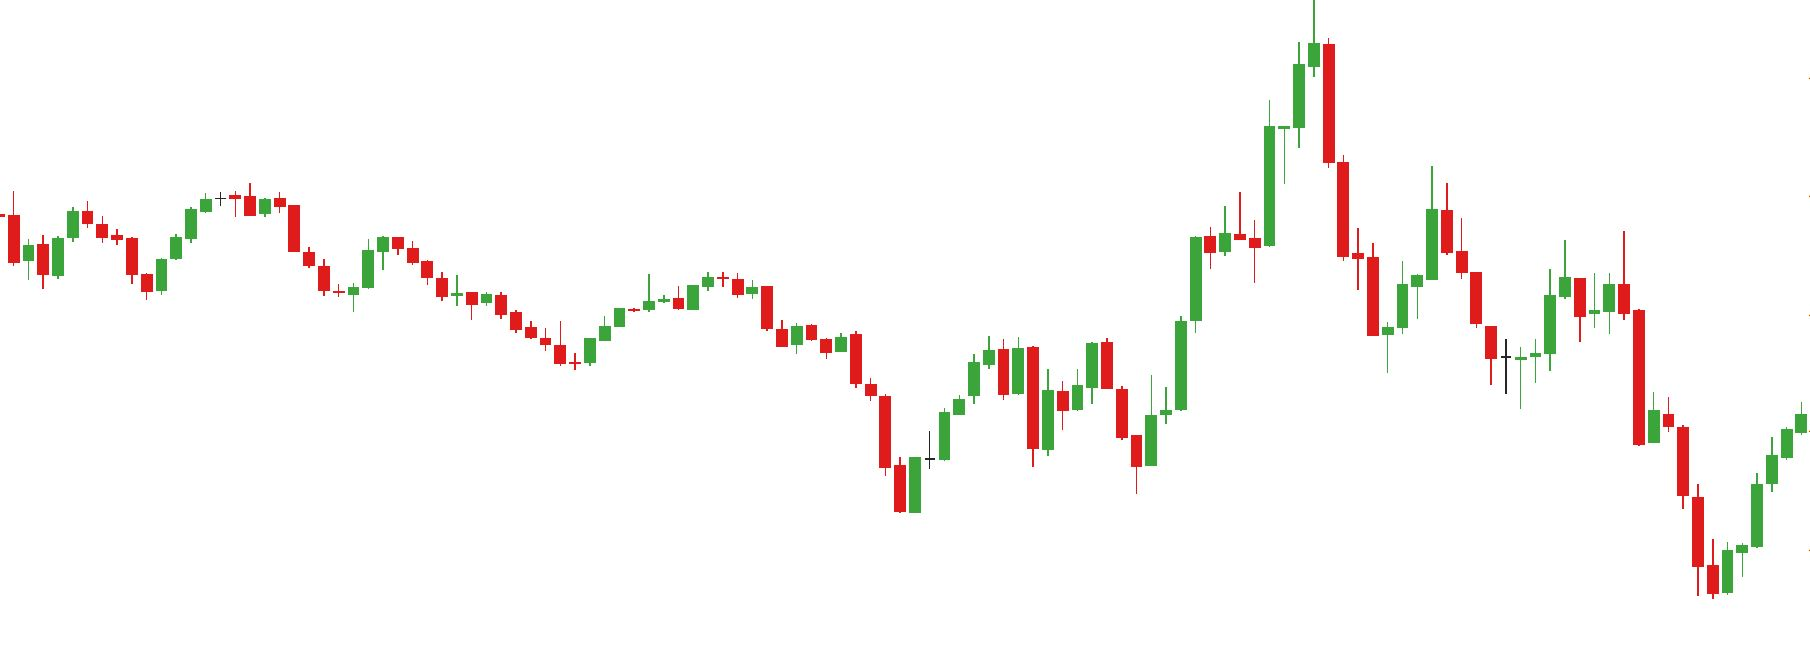buy: (1025, 368, 1160, 496), (36, 233, 172, 301)
sell: (1540, 232, 1632, 357)
